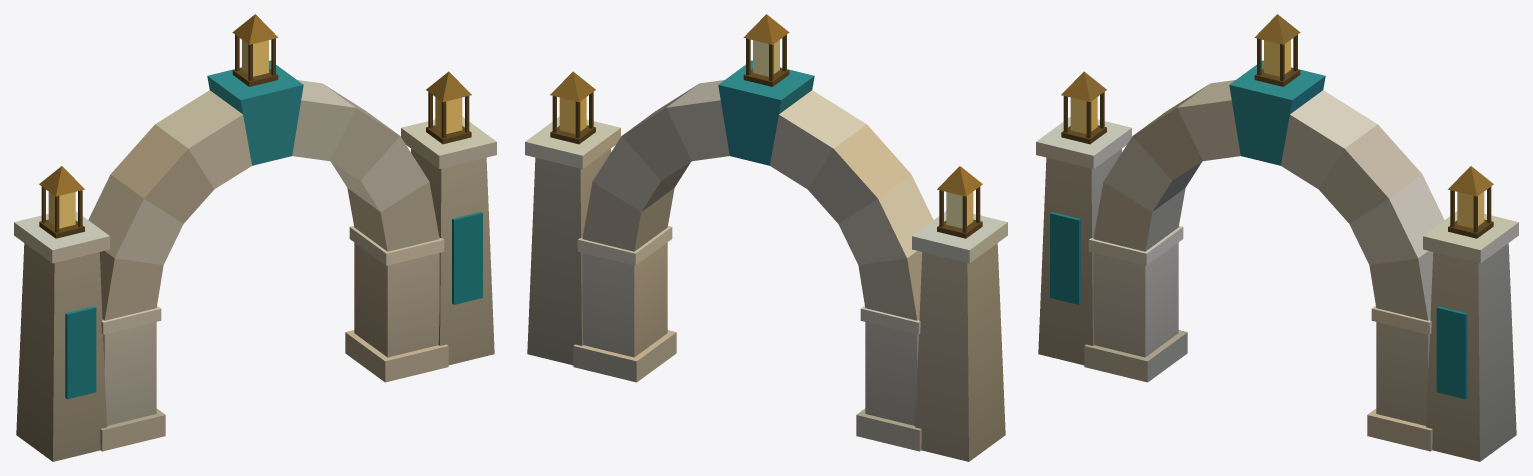
Rendered from spire_lantern_gate.glb.
3 renders of one model, left to right at view 1: azimuth 30°, elevation 25°; view 2: azimuth 150°, elevation 25°; view 3: azimuth 330°, elevation 25°, orthographic.
Parts seen in each view (by area): view 1: spire_lantern_gate, lantern_1, lantern_3, lantern_2; view 2: spire_lantern_gate, lantern_1, lantern_3, lantern_2; view 3: spire_lantern_gate, lantern_3, lantern_1, lantern_2.
Part boxes in pixels (x1,y1,x2,y2): spire_lantern_gate: (14,60,496,461); lantern_1: (39,166,84,238); lantern_3: (426,71,471,144); lantern_2: (232,14,278,86); spire_lantern_gate: (525,60,1007,461); lantern_1: (937,166,982,238); lantern_3: (550,71,595,144); lantern_2: (743,14,789,86); spire_lantern_gate: (1036,60,1518,461); lantern_3: (1448,166,1493,238); lantern_1: (1061,71,1106,144); lantern_2: (1254,14,1300,86).
Size of the model in its own units: 7.7 by 6.3 by 1.2.
